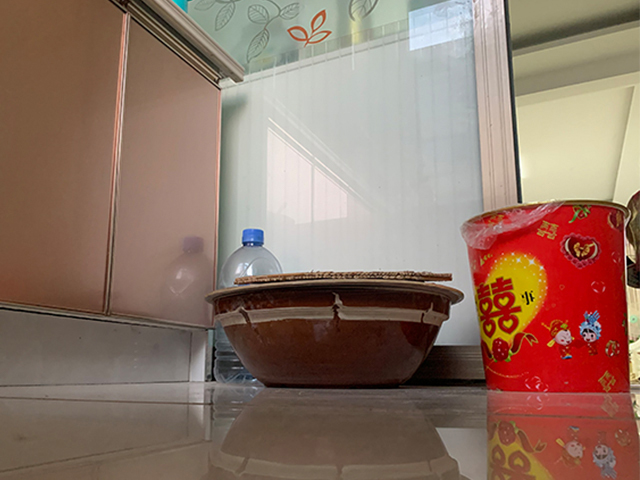cabinet: (1, 1, 244, 386)
trashcan: (461, 199, 633, 394)
